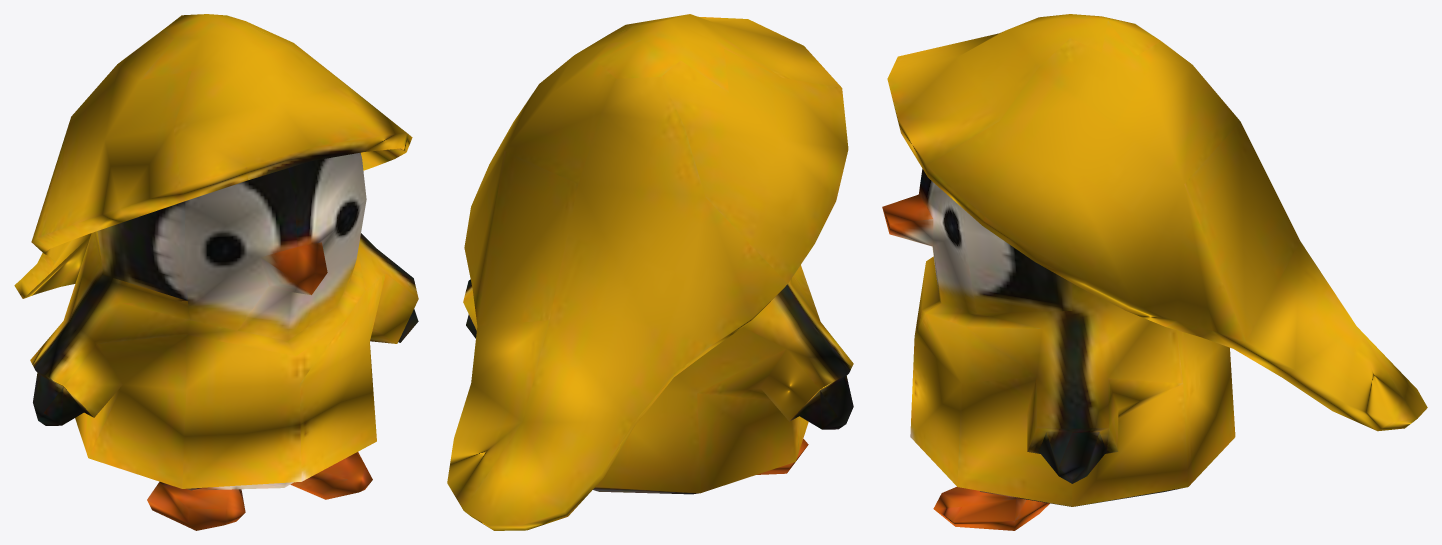
The model's file is penguin-felt-01-13-yellow-raincoat.gltf.
The picture shows the model from 3 angles, left to right: view 1: azimuth 30°, elevation 25°; view 2: azimuth 150°, elevation 25°; view 3: azimuth 270°, elevation 25°; orthographic projection. The views are drawn at different scales.
Parts seen in each view (by area): view 1: penguin-felt-01-13-yellow-raincoat; view 2: penguin-felt-01-13-yellow-raincoat; view 3: penguin-felt-01-13-yellow-raincoat.
Boxes of the visible parts, left/top/right/bottom form: penguin-felt-01-13-yellow-raincoat: left=14, top=14, right=418, bottom=530; penguin-felt-01-13-yellow-raincoat: left=447, top=14, right=853, bottom=530; penguin-felt-01-13-yellow-raincoat: left=882, top=14, right=1427, bottom=530.
Bounding box in the file's own units: 0.2 × 0.2243 × 0.2389.
1 material, 1 textured.
